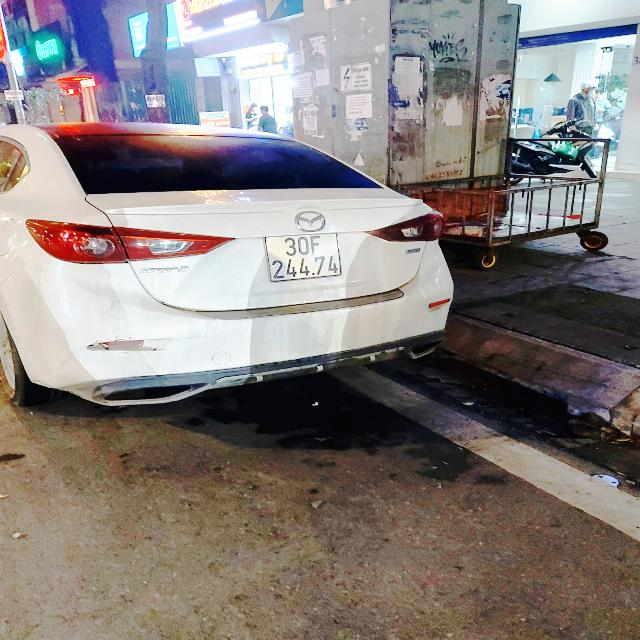license_plate: (262, 232, 345, 284)
